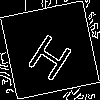H: (25, 25, 80, 83)
